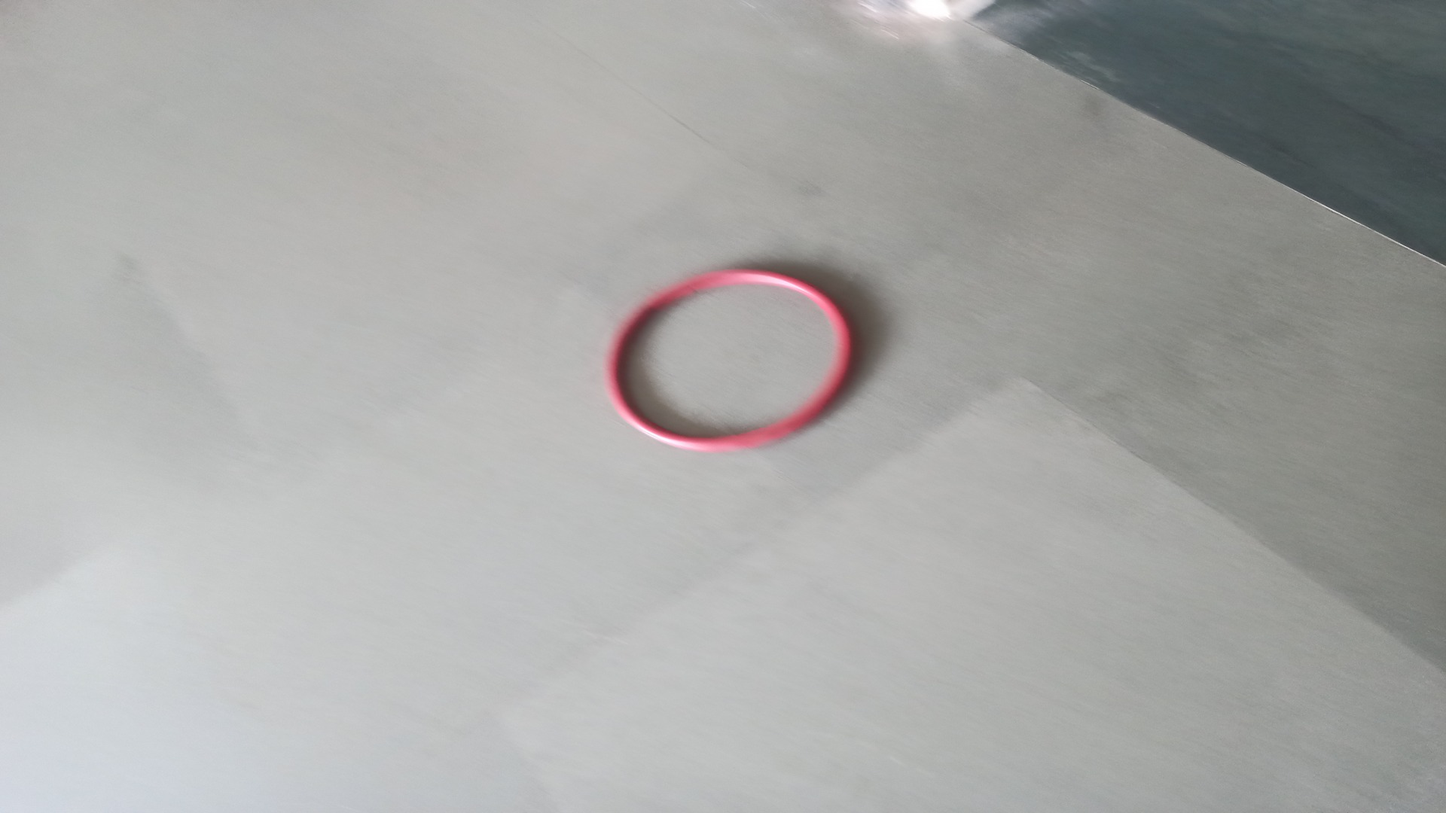Red ring: (603, 266, 855, 450)
